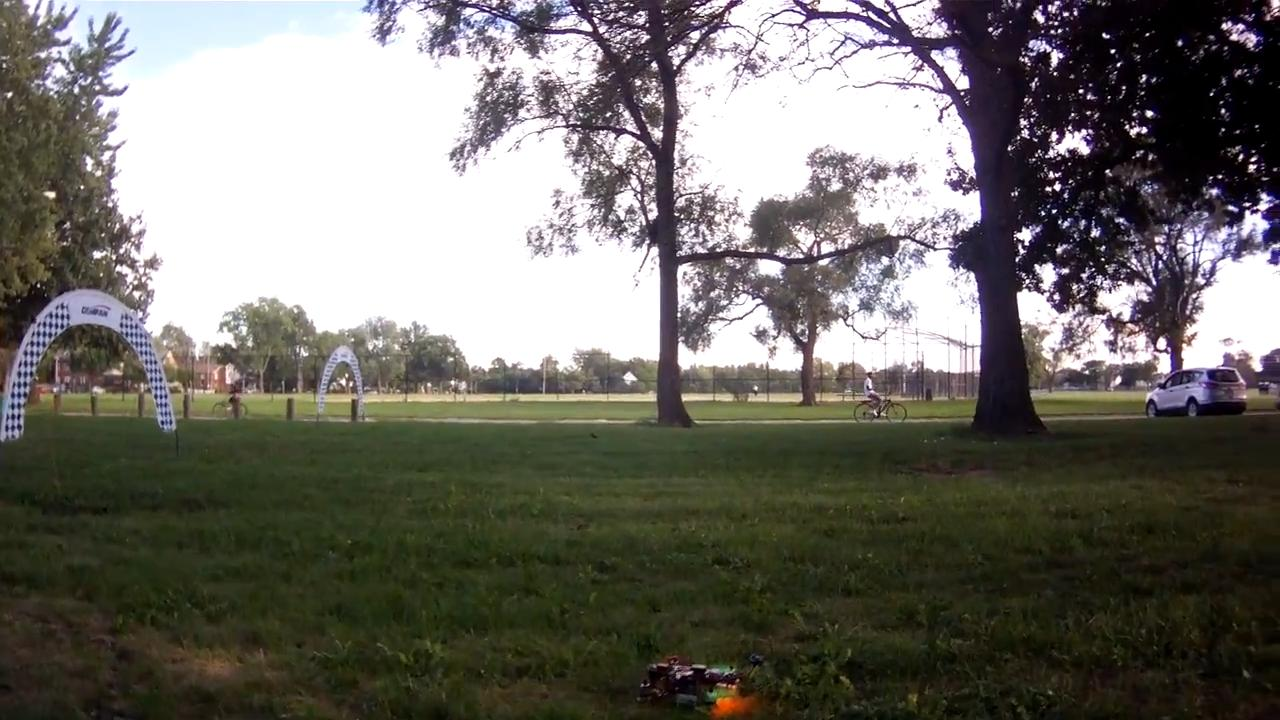gate: (2, 290, 182, 442)
